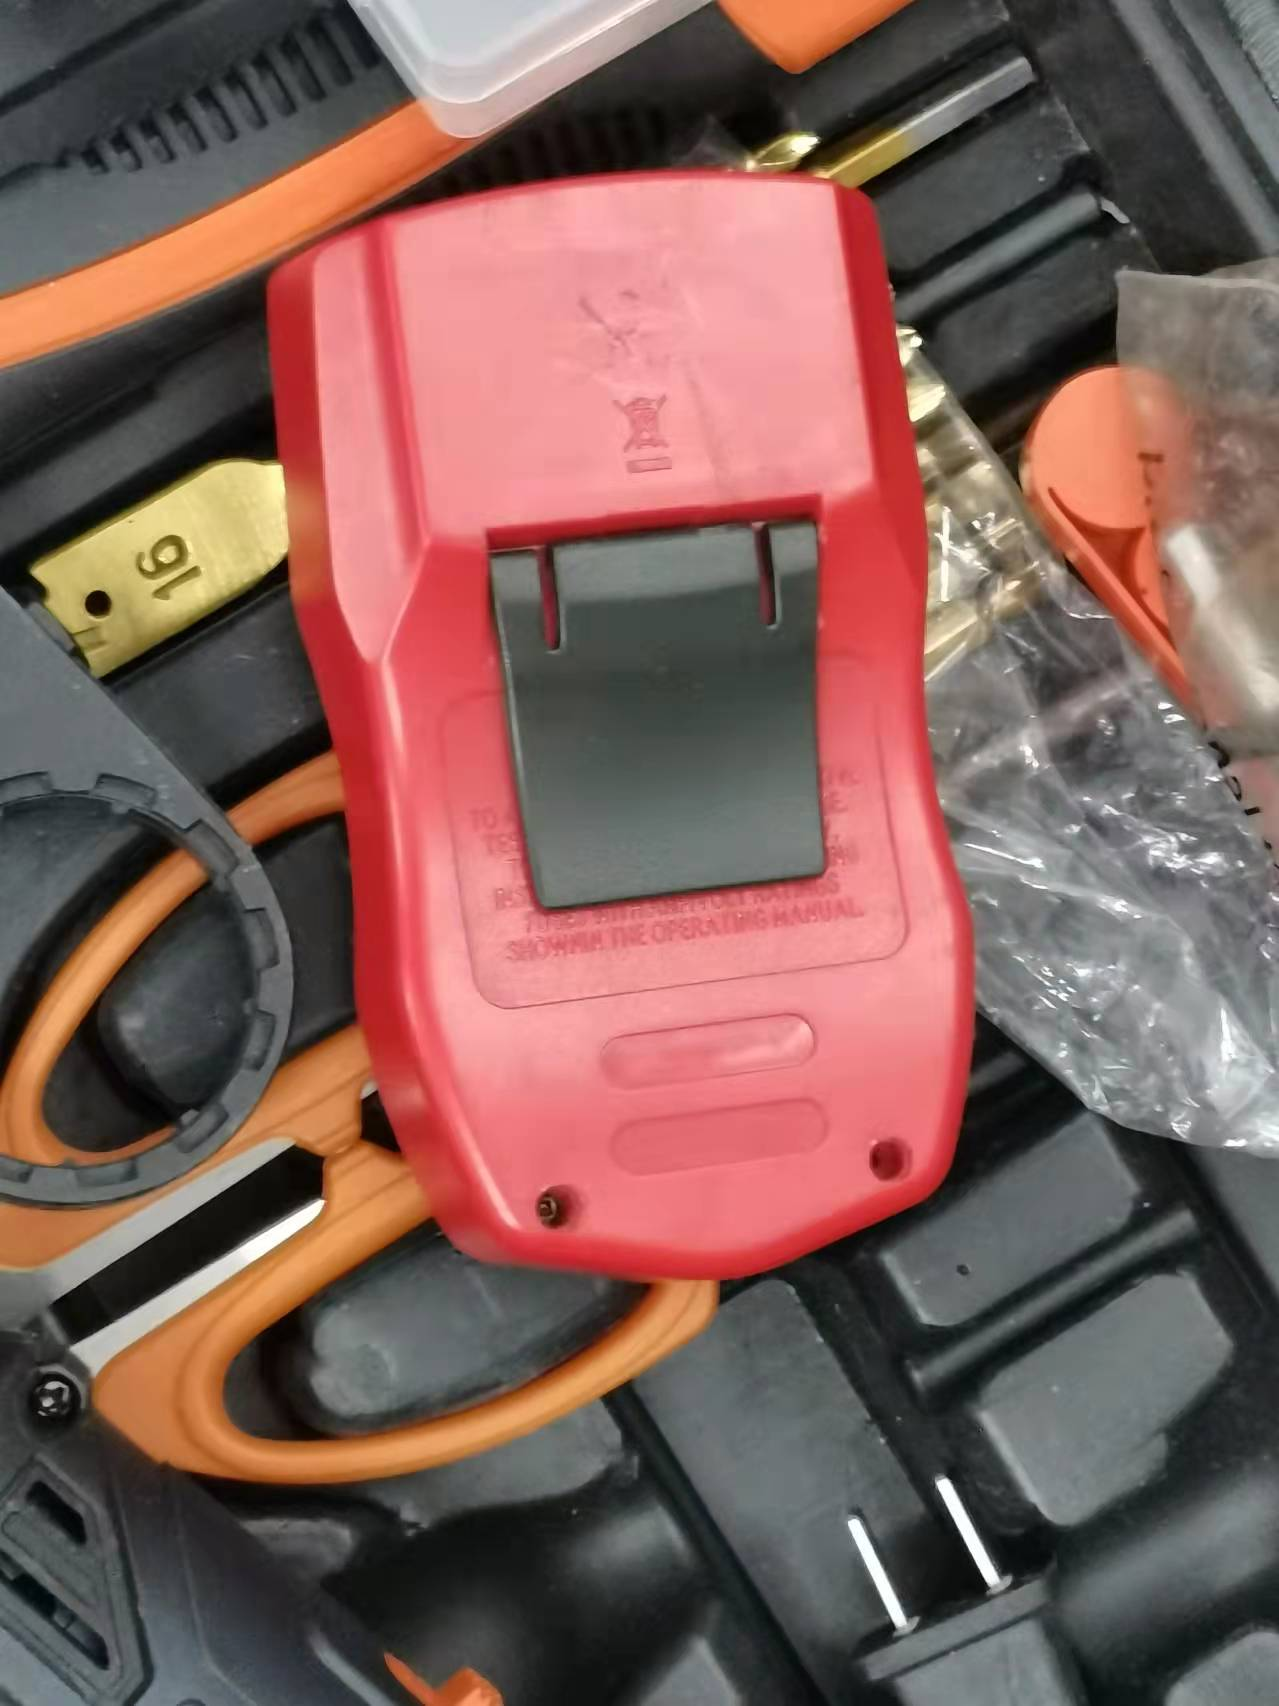Multimeter: (263, 169, 974, 1284)
Screw holes: (529, 1178, 598, 1240), (867, 1132, 918, 1182)
